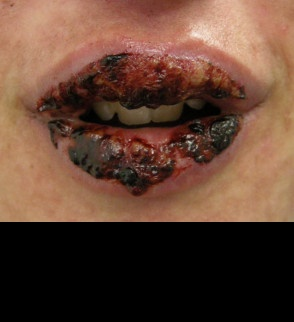SJS-TEN: (1, 0, 294, 218)
